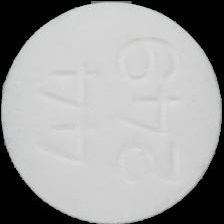50844-249: (0, 0, 224, 224)
